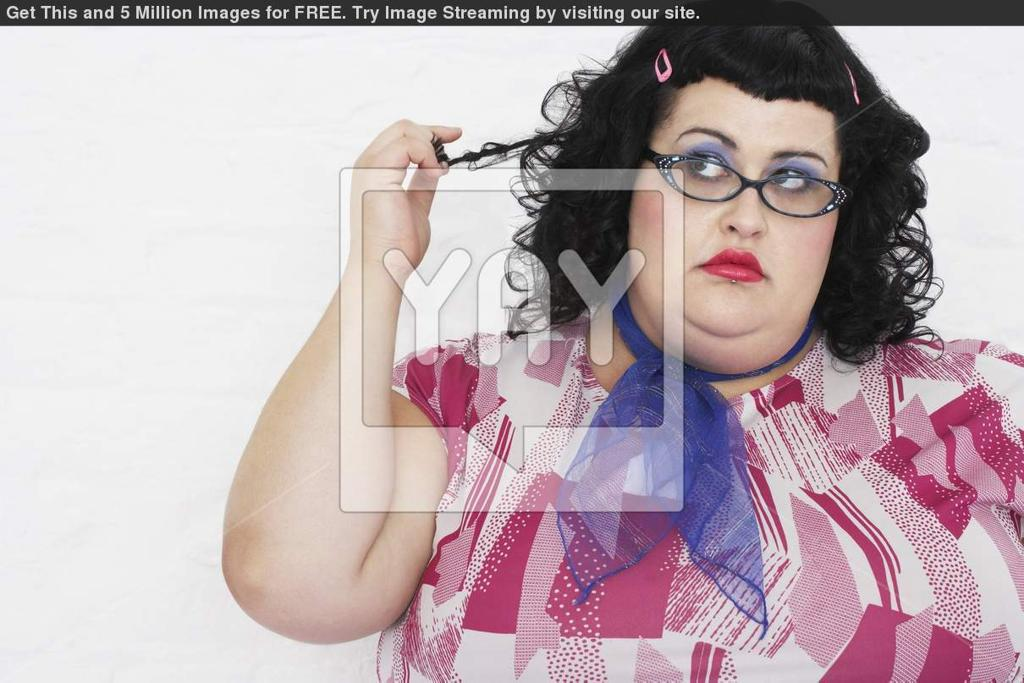face: (629, 85, 845, 335)
